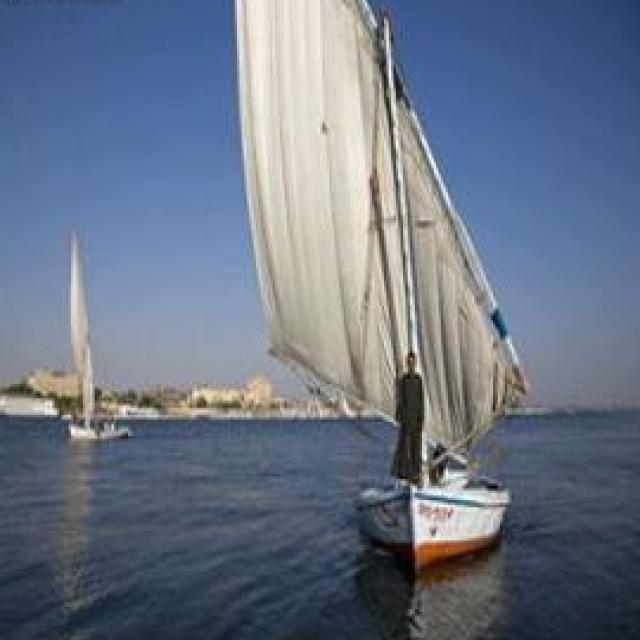sailboat: (235, 0, 538, 564), (55, 229, 131, 450)
